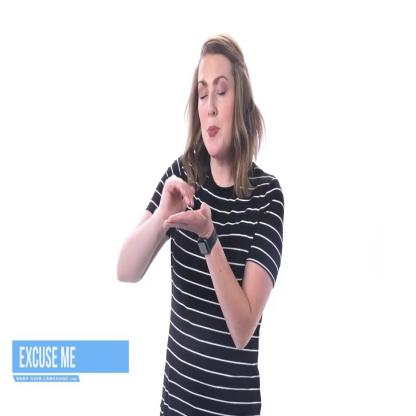ExcuseMe: (147, 170, 218, 248)
